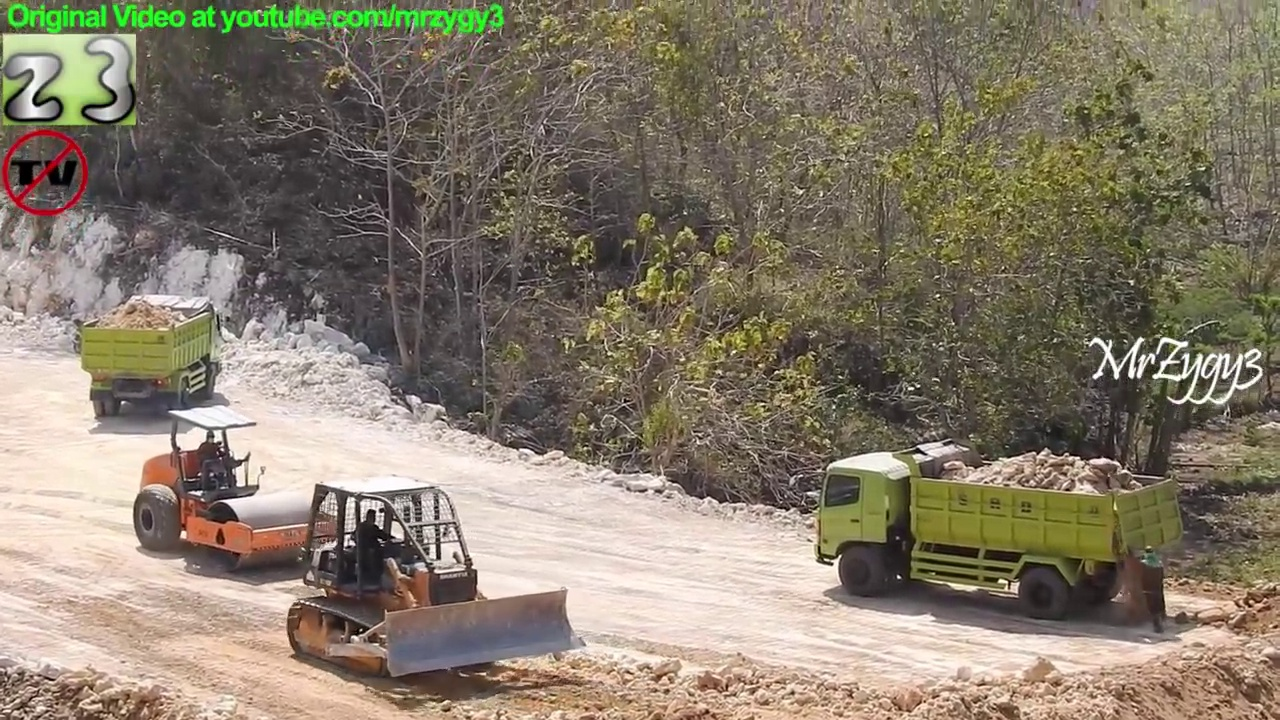bulldozer: (284, 476, 592, 688)
compactor: (130, 403, 354, 582)
truck: (803, 436, 1193, 624), (68, 290, 227, 423)
